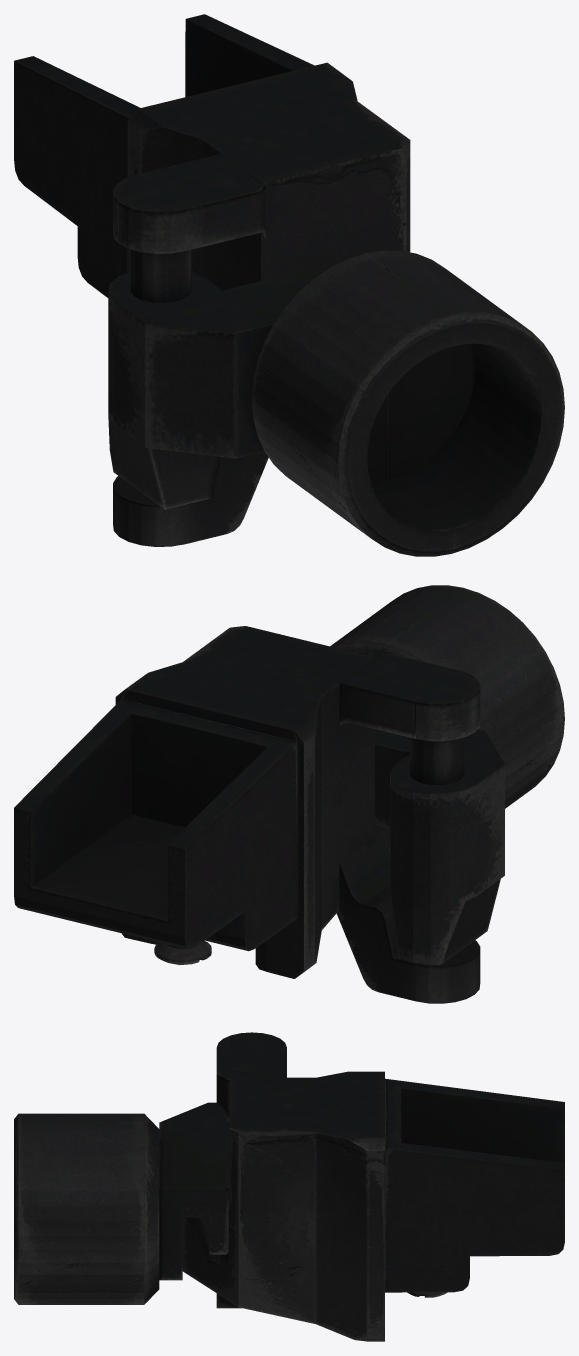
3 views of the same model, one above another, from view 1: azimuth 30°, elevation 25°; view 2: azimuth 150°, elevation 25°; view 3: azimuth 270°, elevation 25° (orthographic). The views are drawn at different scales.
Visible parts, largest first — view 1: TW_5649b2314bdc2d79388b4576_PZ_Import; view 2: TW_5649b2314bdc2d79388b4576_PZ_Import; view 3: TW_5649b2314bdc2d79388b4576_PZ_Import.
Boxes of the visible parts, x1,y1,x2,y2 form: TW_5649b2314bdc2d79388b4576_PZ_Import: (14,14,564,556); TW_5649b2314bdc2d79388b4576_PZ_Import: (14,585,564,1003); TW_5649b2314bdc2d79388b4576_PZ_Import: (14,1032,564,1341).
Bounding box in the file's own units: 0.0298 × 0.0621 × 0.0305.
1 material, 1 textured.
